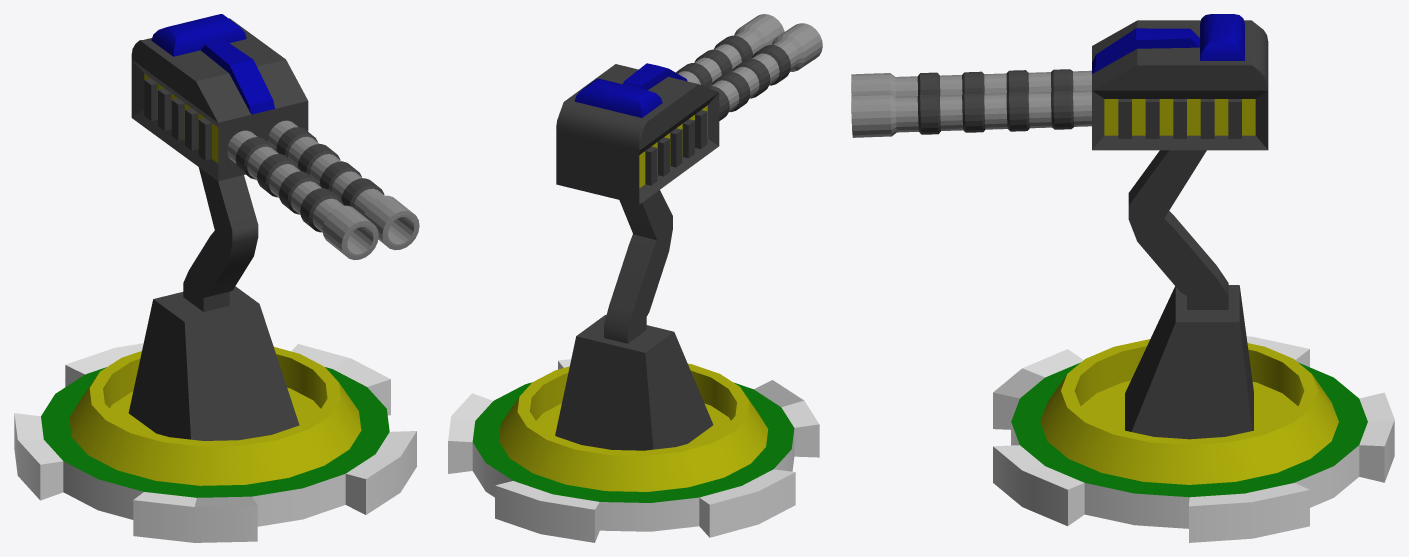
File: machine2.fbx
3 views of the same model, side by side, from view 1: azimuth 30°, elevation 25°; view 2: azimuth 150°, elevation 25°; view 3: azimuth 270°, elevation 25° (orthographic). The views are drawn at different scales.
Parts seen in each view (by area): view 1: machine2body1, machine2body2, machine2barrel1, machine2barrel2; view 2: machine2body1, machine2body2, machine2barrel1, machine2barrel2; view 3: machine2body1, machine2body2, machine2barrel2, machine2barrel1.
Part boxes in pixels (<box>): machine2body1: <box>14,343,416,542</box>; machine2body2: <box>128,14,308,440</box>; machine2barrel1: <box>227,130,378,259</box>; machine2barrel2: <box>268,120,419,250</box>; machine2body1: <box>448,359,819,542</box>; machine2body2: <box>555,63,719,450</box>; machine2barrel1: <box>706,23,822,120</box>; machine2barrel2: <box>676,14,784,86</box>; machine2body1: <box>993,336,1394,542</box>; machine2body2: <box>1092,14,1268,439</box>; machine2barrel2: <box>851,89,1091,137</box>; machine2barrel1: <box>851,69,1091,96</box>.
Size of the model in its own units: 118 by 136 by 156.
